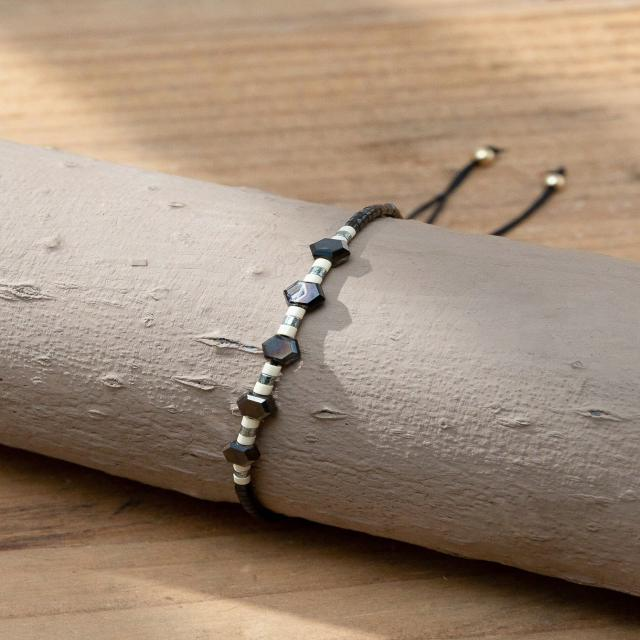bracelet: (177, 112, 633, 538)
